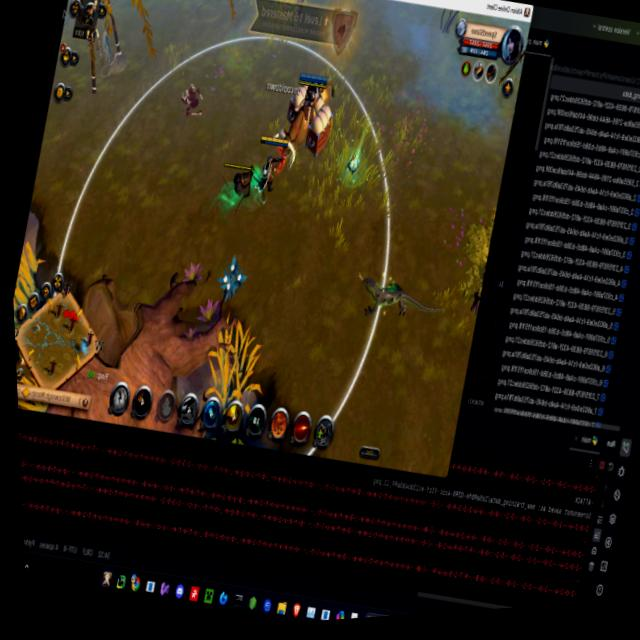hide: (209, 251, 254, 315)
ore: (342, 253, 455, 348)
red: (267, 59, 347, 176), (242, 129, 293, 213)
